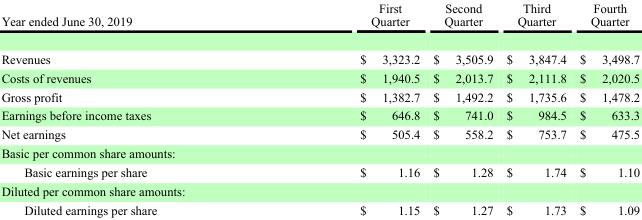table: (0, 0, 639, 216)
table column: (0, 0, 257, 216), (257, 0, 425, 216), (425, 0, 499, 216), (499, 0, 572, 216), (572, 0, 639, 216)
table column header: (0, 0, 639, 39)
table projected row header: (0, 143, 639, 162), (0, 181, 639, 200)
table row: (0, 0, 639, 39), (0, 39, 639, 67), (0, 67, 639, 86), (0, 86, 639, 105), (0, 105, 639, 124), (0, 124, 639, 143), (0, 143, 639, 162), (0, 162, 639, 181), (0, 181, 639, 200), (0, 200, 639, 216)
